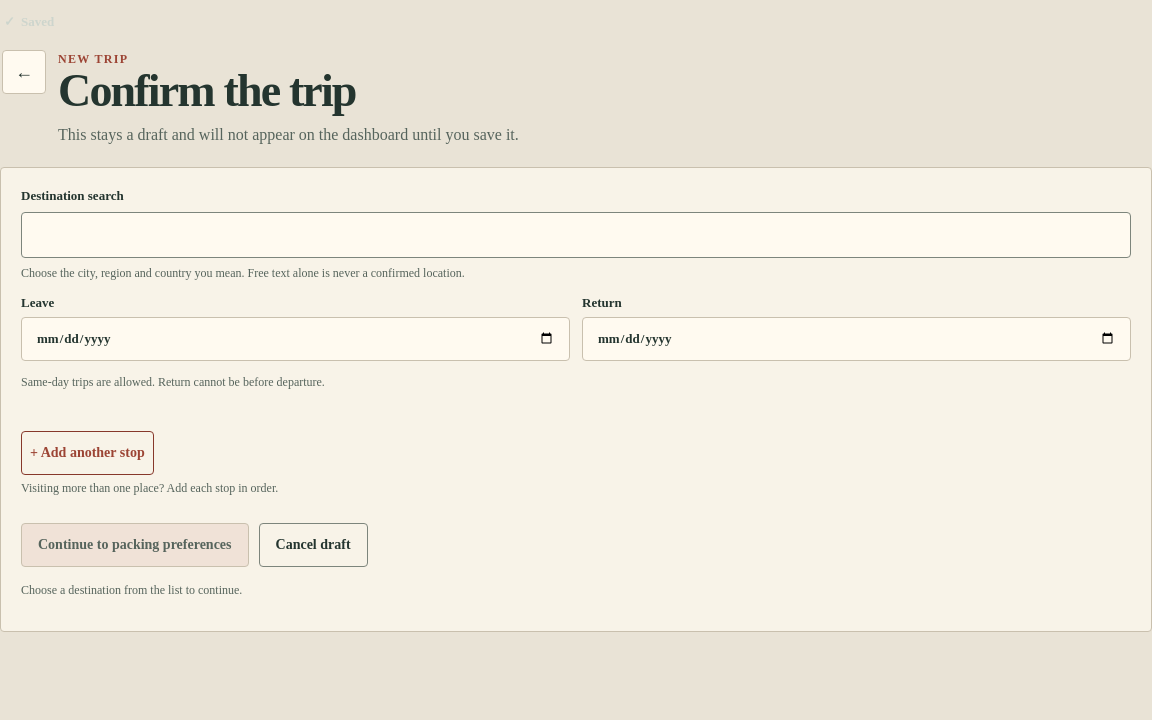
Test: step 1: confirm the trip › editing the destination text after confirming clears it, and Change does too
The width and height of the screenshot is (1152, 720).
Type "lisbon" into the dropdown labelled "Destination search".
click(576, 235); type("lisbon")  # box 21,212 -> 1131,258
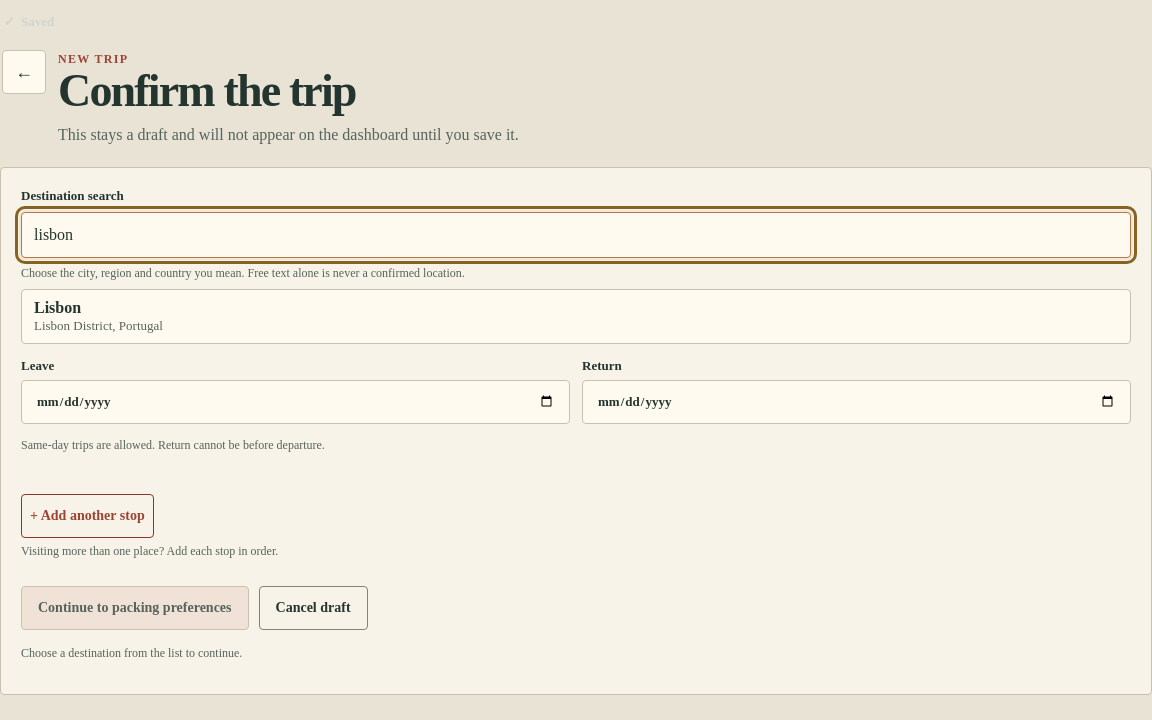
Click the option "Lisbon Lisbon District, Portugal".
click(58, 307)  # box 21,289 -> 1131,344
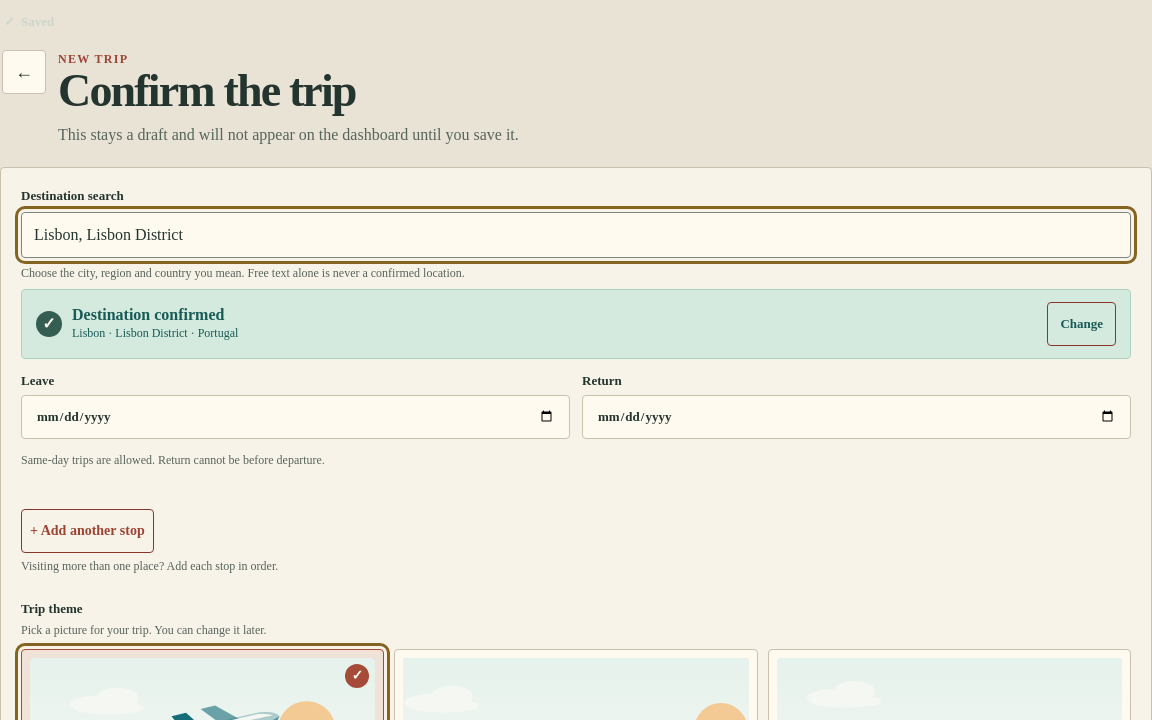
Type "2026-11-12" into the date field labelled "Leave".
click(296, 417); type("2026-11-12")  # box 21,395 -> 570,439
Type "2026-11-16" into the date field labelled "Return".
click(856, 417); type("2026-11-16")  # box 582,395 -> 1131,439
Type "x" into the dropdown labelled "Destination search".
click(576, 235); type("x")  # box 21,212 -> 1131,258
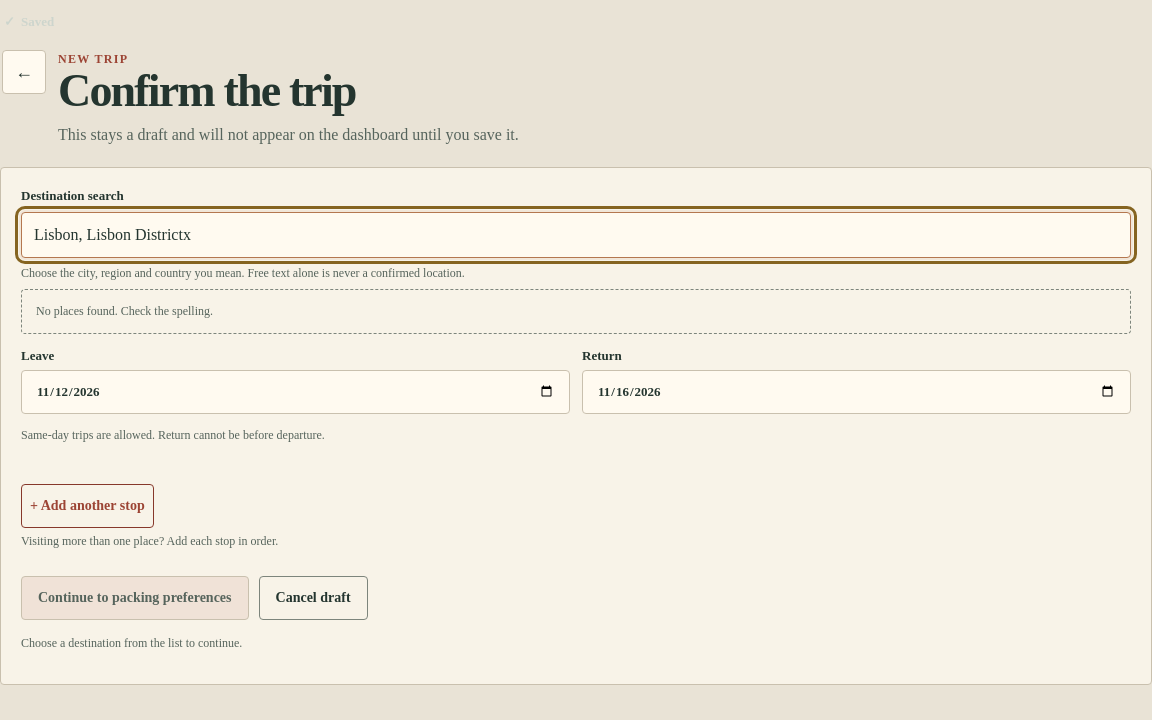
expect the text "Destination confirmed" is gone: met
Replace the text in the dropdown labelled "Destination search" with "paris" at (576, 235), box 21,212 -> 1131,258
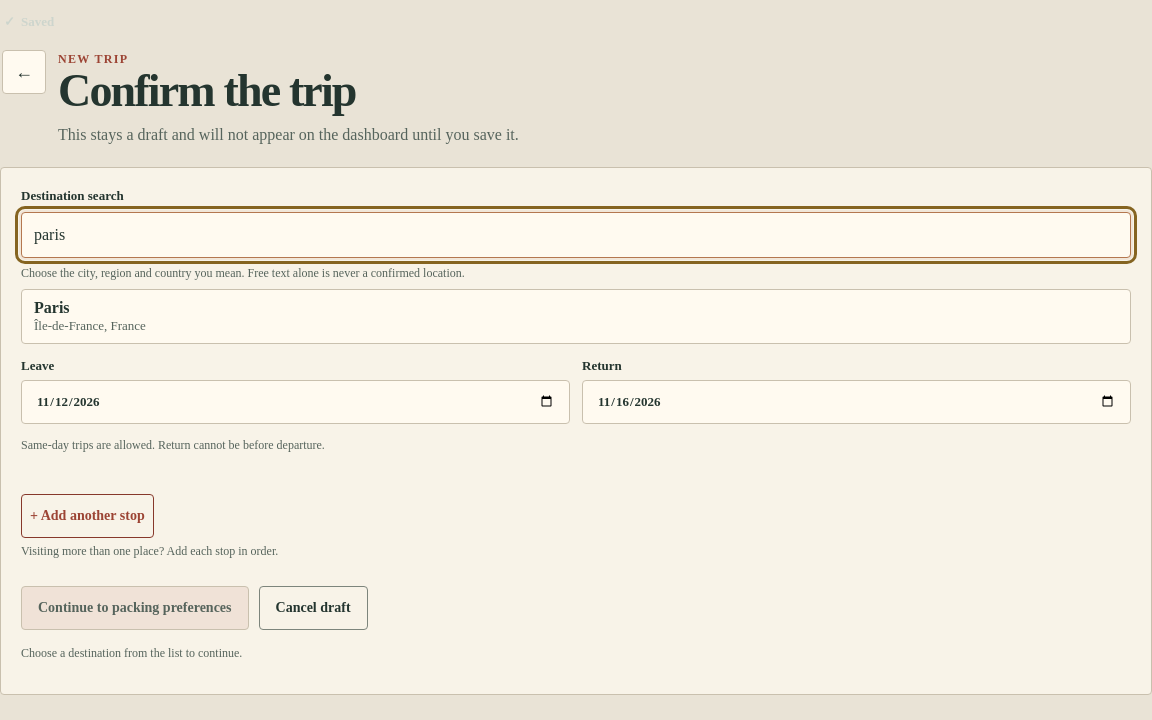
Click the option "Paris Île-de-France, France".
click(52, 307)  # box 21,289 -> 1131,344
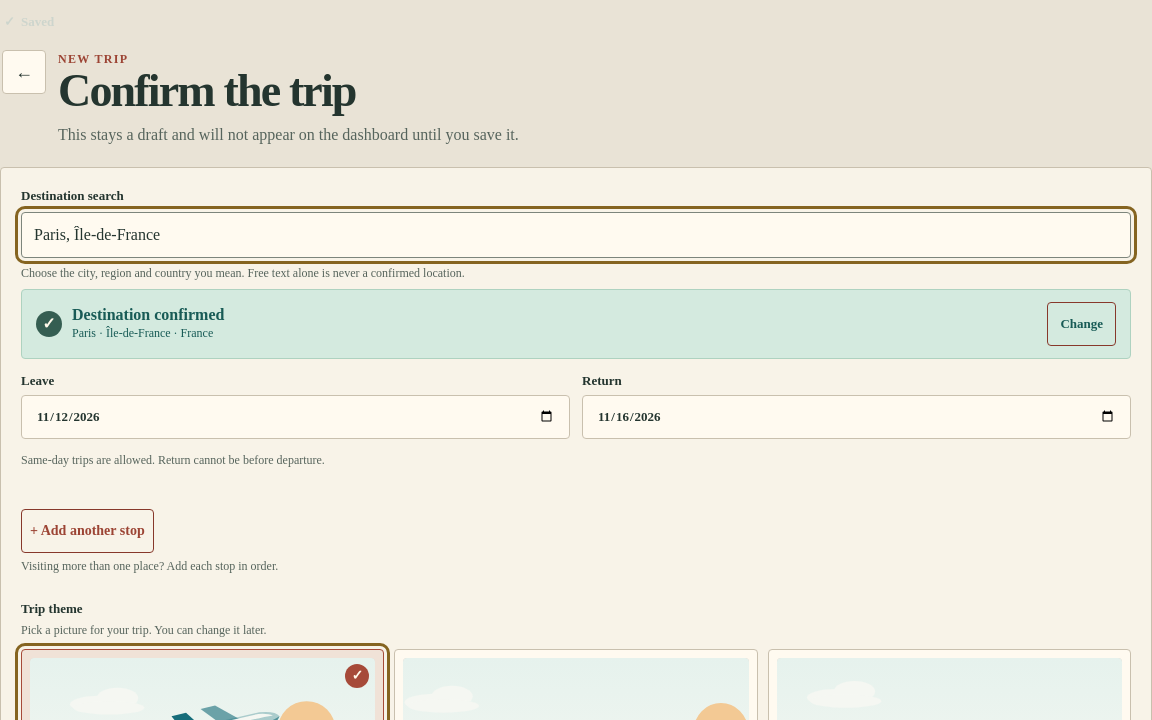
Click the button "Change".
click(1082, 324)  # box 1047,302 -> 1116,346
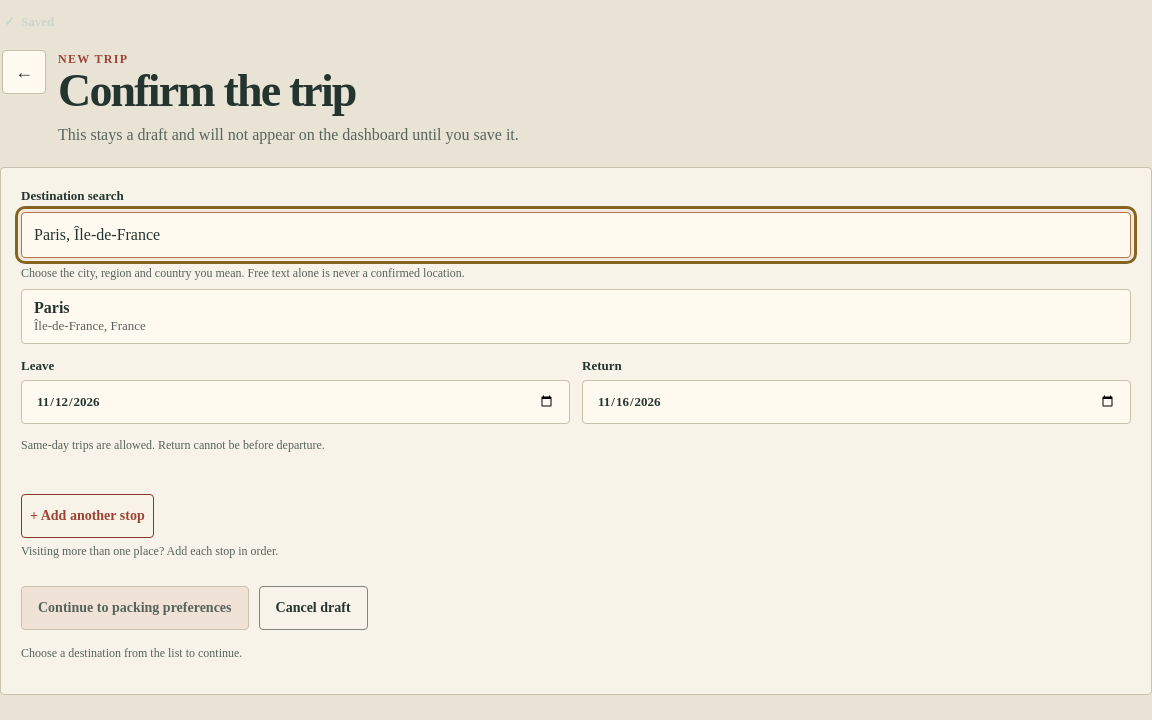
expect the text "Destination confirmed" is gone: met
